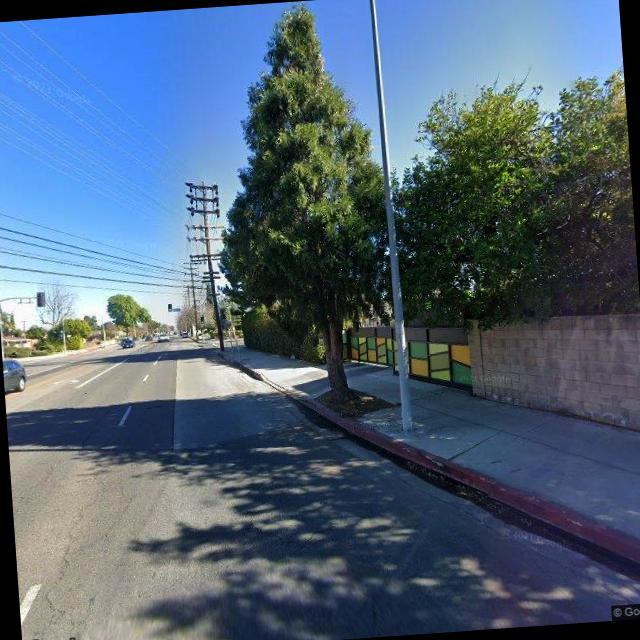pothole: (35, 540, 80, 634), (96, 486, 136, 544)
